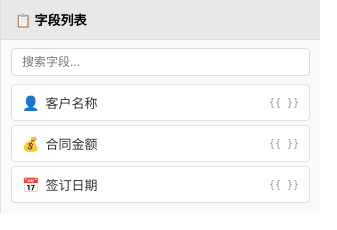
Test: FieldPanel › filters fields by search query
This screenshot has width=337, height=230.
Type "客户" into the field with placeholder "搜索字段..." at [160, 62], box [11,48,310,76]
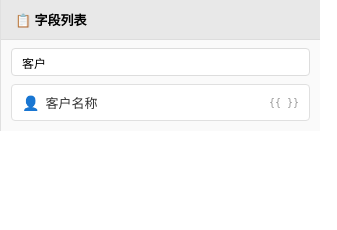
Expected: the text "客户名称" is shown, [46,95,98,111]
Result: the text "合同金额" is gone
Result: the text "签订日期" is gone
